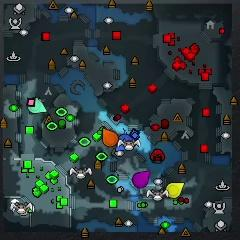p1: (116, 134, 133, 151)
p2: (28, 98, 47, 113)
p3: (133, 171, 150, 188)
p4: (166, 183, 184, 198)
p5: (102, 128, 118, 147)
